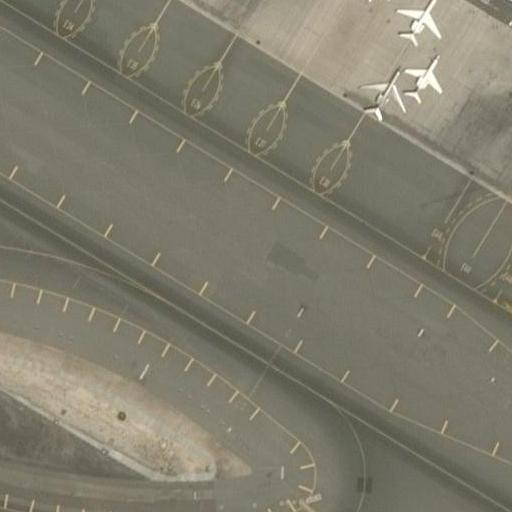Aircraft: (390, 0, 450, 50), (363, 67, 408, 123), (398, 60, 455, 98), (347, 0, 397, 6)
